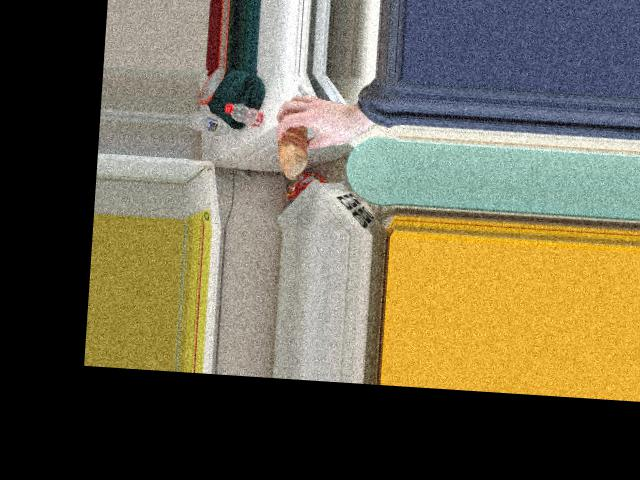sweet_potato: (276, 121, 308, 168)
